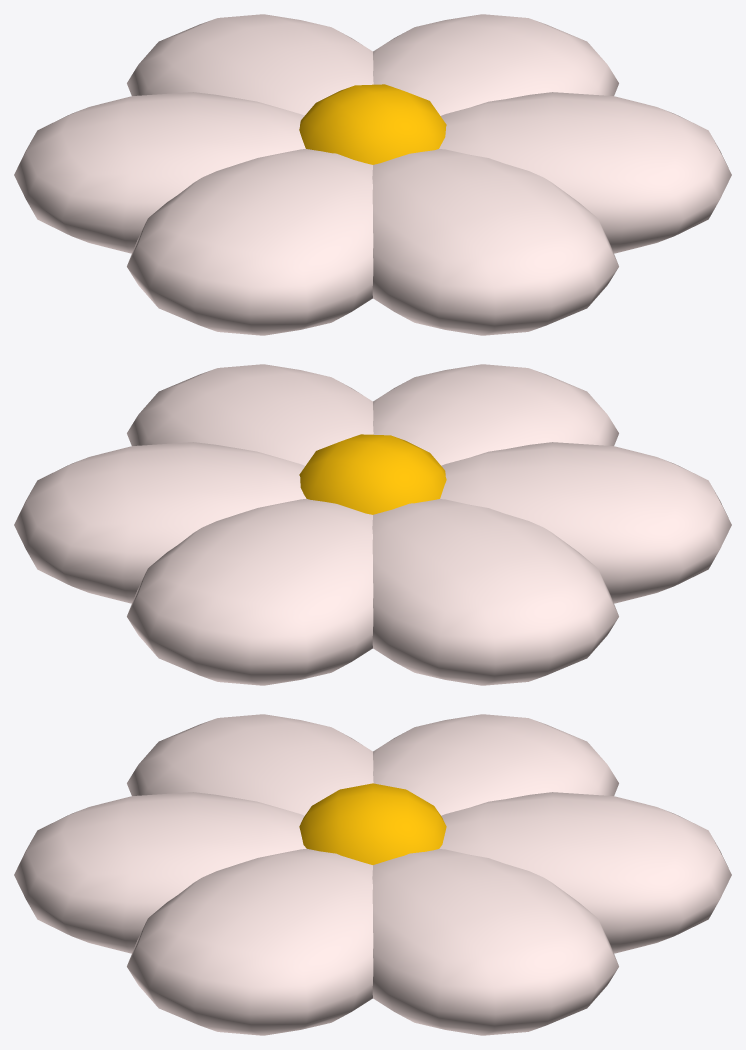
Rendered from Town_8_Flower_2.glb.
3 renders of one model, top to bottom at view 1: azimuth 30°, elevation 25°; view 2: azimuth 150°, elevation 25°; view 3: azimuth 270°, elevation 25°, orthographic.
Visible parts, largest first — view 1: Town_8_Flower_2; view 2: Town_8_Flower_2; view 3: Town_8_Flower_2.
Boxes of the visible parts, x1,y1,x2,y2 form: Town_8_Flower_2: [14, 14, 731, 335]; Town_8_Flower_2: [14, 364, 731, 685]; Town_8_Flower_2: [14, 714, 731, 1035].
Size of the model in its own units: 0.3845 by 0.0907 by 0.4186.
Materials: 1 (1 with a texture image).
